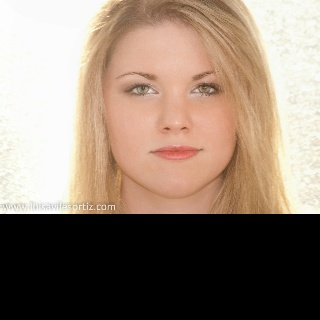without_mask: (102, 21, 236, 197)
